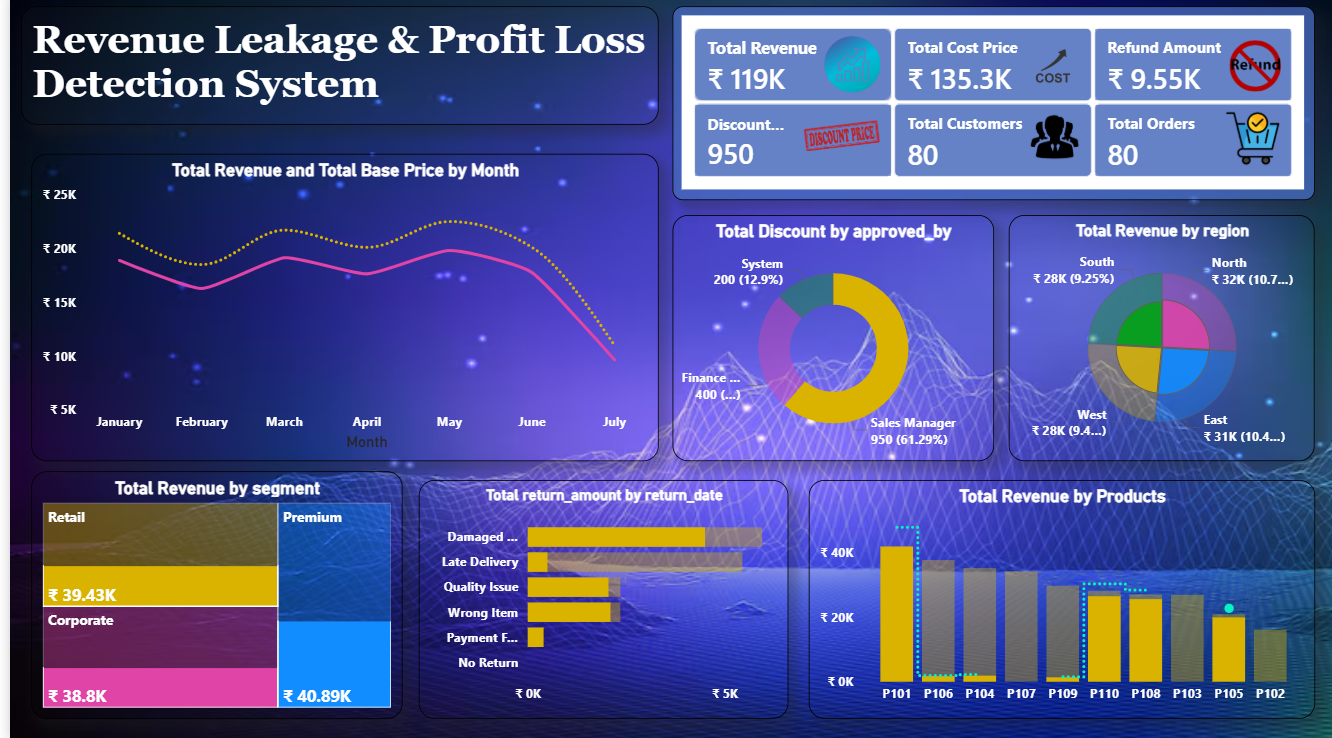

This screenshot's page, from the dashboard's own definition file:
{"tool":"powerbi","page":{"name":"Page 1","canvas":[1280,720],"ordinal":0},"visuals":[{"type":"cardVisual","title":"Total Revenue","fields":{"Data":["Sum(billing.billed_amount)","Sum(orders.Base Price)","Sum(returns.return_amount)","Sum(discounts.discount_pct)","Count(customers.customer_id)","Count(orders.order_id)"]},"box":[639.4,10.9,620.1,187],"z":0},{"type":"lineChart","title":"Total Revenue and Total  Base Price by Month","fields":{"Category":["orders.order_date.Variation.Date Hierarchy.Month"],"Y":["Sum(billing.billed_amount)","Sum(orders.Base Price)"]},"box":[20.5,153.2,605.6,296.8],"z":1000},{"type":"clusteredBarChart","title":"Total return_amount by return_date","fields":{"Y":["Sum(returns.return_amount)"],"Category":["returns.return_reason"]},"box":[394.5,468.1,357.1,230.4],"z":2000},{"type":"treemap","title":"Total Revenue by segment","fields":{"Group":["customers.segment"],"Values":["Sum(billing.billed_amount)"]},"box":[20.5,459.7,358.3,238.9],"z":3000},{"type":"pieChart","title":"Total Revenue by region","fields":{"Category":["customers.region"],"Y":["Sum(billing.billed_amount)"]},"box":[963.9,212.3,295.6,237.7],"z":4000},{"type":"lineStackedColumnComboChart","title":"Total Revenue by Products","fields":{"Category":["orders.product_id"],"Y":["Sum(billing.billed_amount)"],"Y2":["Sum(orders.Base Price)"]},"box":[770.9,468.1,488.6,230.4],"z":5000},{"type":"donutChart","title":"Total Discount  by approved_by","fields":{"Category":["discounts.approved_by"],"Y":["Sum(discounts.discount_pct)"]},"box":[639.4,212.3,310.1,237.7],"z":6000},{"type":"textbox","box":[10.9,10.9,615.3,114.6],"z":7000}]}

Visuals, with their boxes in screenshot pixels (x1, y1, x2, y2), scaled from the page's 1280x720 canvas onto the 1332x738 screenshot:
"Total Revenue" cardVisual: crop(665, 11, 1311, 203)
"Total Revenue and Total  Base Price by Month" lineChart: crop(21, 157, 652, 461)
"Total return_amount by return_date" clusteredBarChart: crop(411, 480, 782, 716)
"Total Revenue by segment" treemap: crop(21, 471, 394, 716)
"Total Revenue by region" pieChart: crop(1003, 218, 1311, 461)
"Total Revenue by Products" lineStackedColumnComboChart: crop(802, 480, 1311, 716)
"Total Discount  by approved_by" donutChart: crop(665, 218, 988, 461)
textbox: crop(11, 11, 652, 129)
